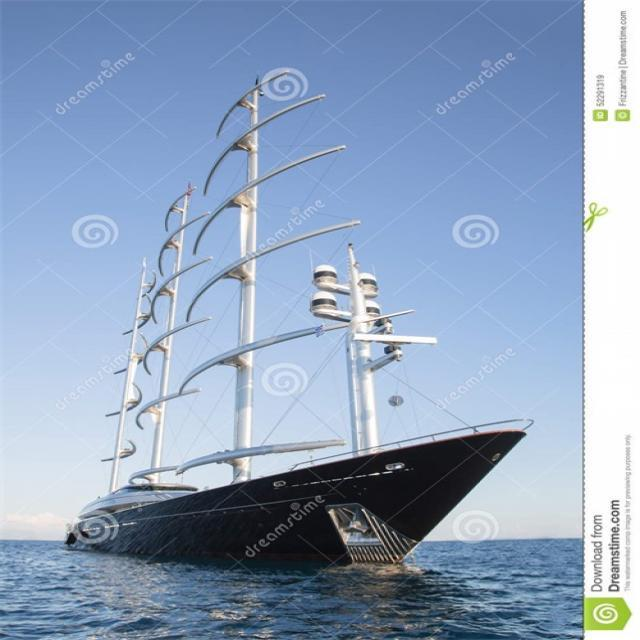Ship: (62, 72, 526, 588)
